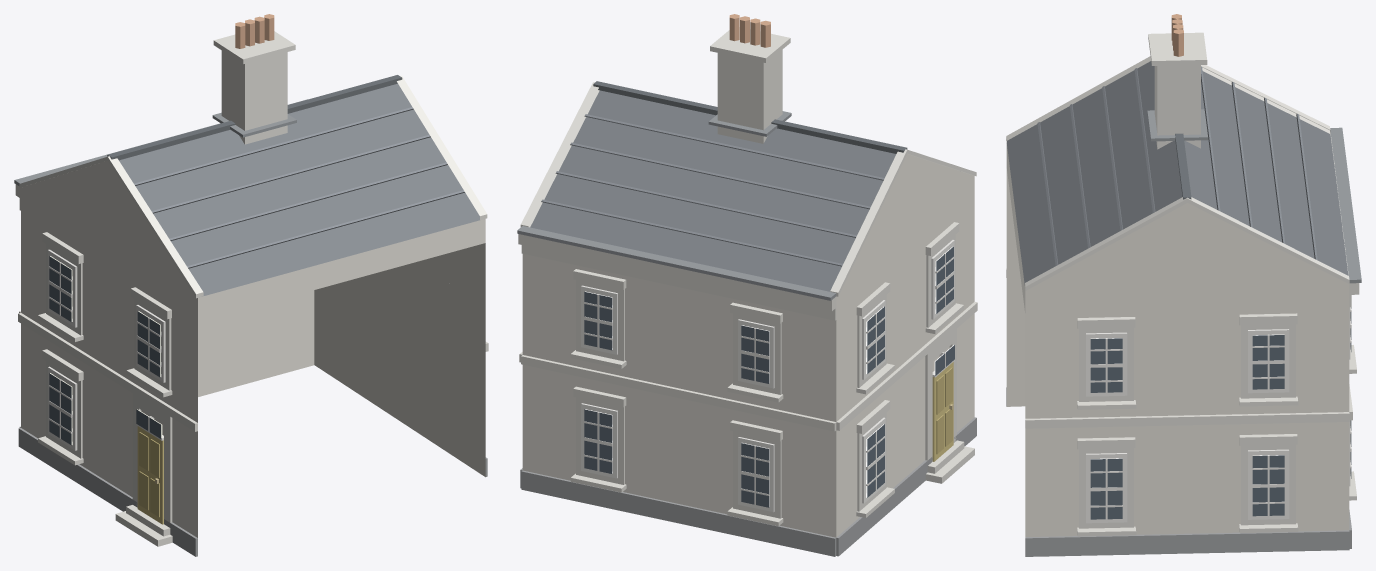
3 views of the same model, side by side, from view 1: azimuth 30°, elevation 25°; view 2: azimuth 150°, elevation 25°; view 3: azimuth 270°, elevation 25° (orthographic). The views are drawn at different scales.
Parts seen in each view (by area): view 1: harl_cream, slate, string, chim_render, slate_lt, frame, plinth, slate_dk, door_yellow_p, window_glass_009, lead, window_glass_012 (+3 smaller); view 2: harl_cream, slate, string, plinth, frame, chim_render, slate_lt, lead, slate_dk, window_glass_003, window_glass_001, window_glass_004 (+7 smaller); view 3: harl_cream, slate, string, plinth, frame, slate_lt, chim_render, lead, window_glass_005, window_glass_007, window_glass_006, window_glass_008 (+2 smaller).
Part boxes in pixels (x1,y1,x2,y2): harl_cream: [21, 161, 485, 537]; slate: [119, 83, 479, 296]; string: [15, 31, 488, 546]; chim_render: [221, 50, 287, 144]; slate_lt: [134, 107, 464, 268]; frame: [48, 249, 165, 450]; plinth: [18, 426, 487, 556]; slate_dk: [107, 75, 402, 160]; door_yellow_p: [139, 432, 159, 517]; window_glass_009: [49, 373, 72, 445]; lead: [14, 99, 307, 185]; window_glass_012: [137, 311, 160, 377]; harl_cream: [522, 154, 974, 537]; slate: [530, 90, 896, 291]; string: [518, 27, 977, 526]; plinth: [520, 417, 976, 556]; frame: [581, 240, 954, 512]; chim_render: [717, 50, 782, 143]; slate_lt: [541, 114, 884, 266]; lead: [517, 111, 836, 300]; slate_dk: [593, 81, 907, 153]; window_glass_003: [741, 443, 769, 507]; window_glass_001: [584, 409, 612, 473]; window_glass_004: [741, 325, 769, 383]; harl_cream: [1006, 144, 1349, 536]; slate: [1006, 61, 1348, 285]; string: [1006, 32, 1359, 536]; plinth: [1006, 387, 1351, 556]; frame: [1086, 307, 1351, 523]; slate_lt: [1037, 66, 1317, 265]; chim_render: [1154, 65, 1200, 149]; lead: [1147, 109, 1361, 283]; window_glass_005: [1090, 458, 1122, 519]; window_glass_007: [1252, 455, 1284, 516]; window_glass_006: [1090, 338, 1122, 392]; window_glass_008: [1252, 334, 1284, 389].
Size of the model in its own units: 8.55 by 10.91 by 7.76.
